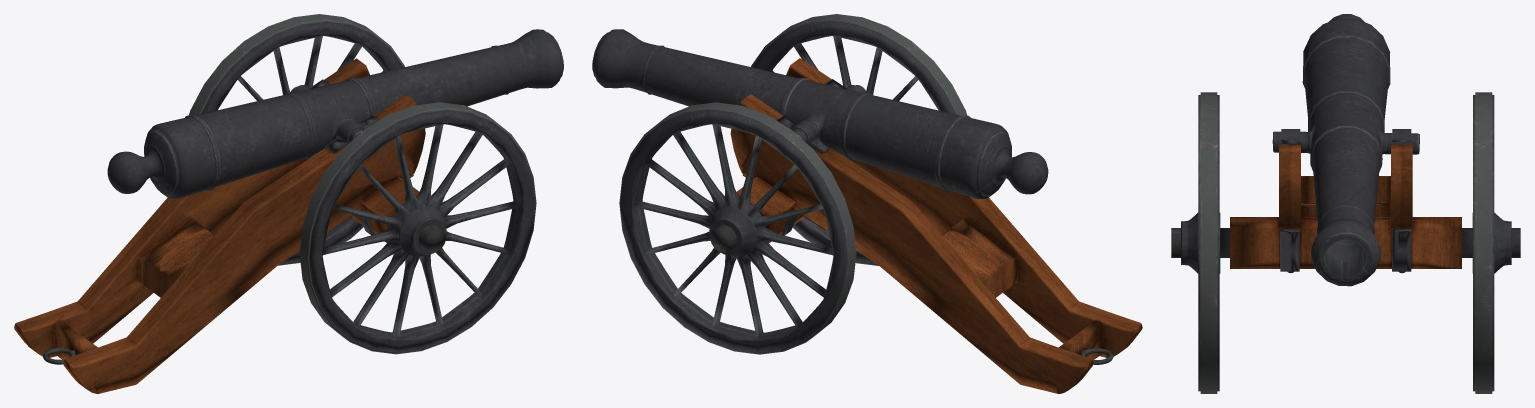
The model's file is Canon.fbx.
3 renders of one model, left to right at view 1: azimuth 30°, elevation 25°; view 2: azimuth 150°, elevation 25°; view 3: azimuth 270°, elevation 25°, orthographic. The views are drawn at different scales.
Visible parts, largest first — view 1: Canon1, CAnon_Barrel; view 2: Canon1, CAnon_Barrel; view 3: Canon1, CAnon_Barrel.
Boxes of the visible parts, bbox=[...] form: Canon1: bbox=[14, 14, 536, 393]; CAnon_Barrel: bbox=[107, 29, 563, 198]; Canon1: bbox=[619, 14, 1142, 393]; CAnon_Barrel: bbox=[592, 29, 1048, 198]; Canon1: bbox=[1171, 92, 1520, 393]; CAnon_Barrel: bbox=[1272, 14, 1419, 286].
Size of the model in its own units: 10.48 by 4.73 by 5.47.
